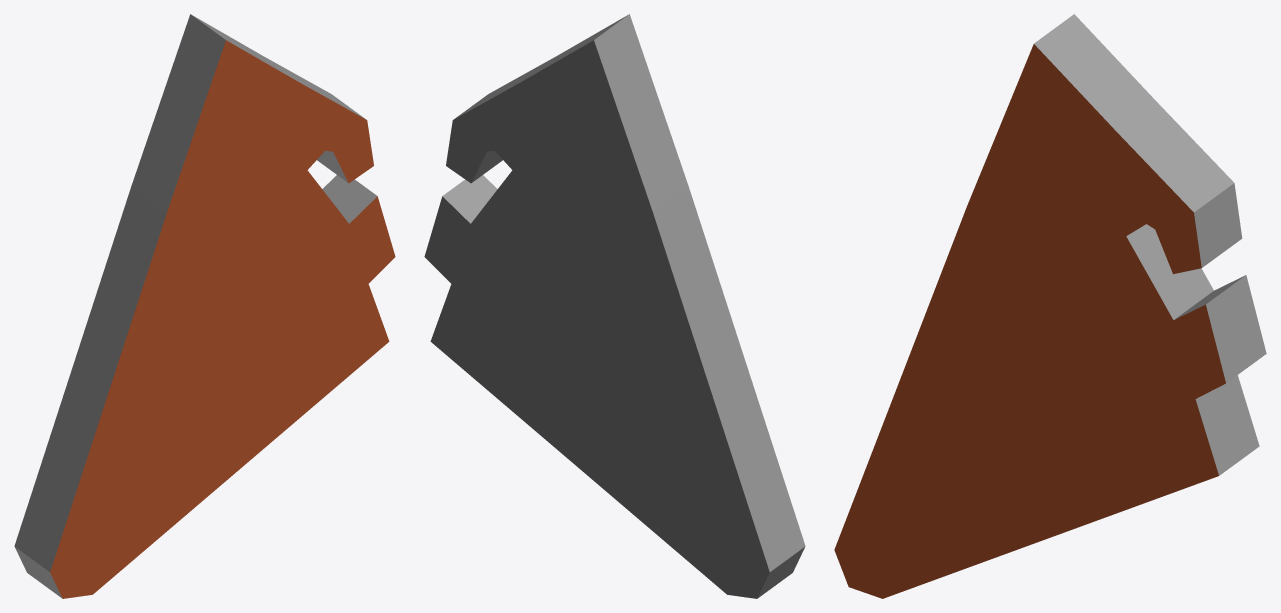
Rendered from construction_5667_assumed_A_Casa_h6m.obj.
The picture shows the model from 3 angles, left to right: view 1: azimuth 30°, elevation 25°; view 2: azimuth 150°, elevation 25°; view 3: azimuth 330°, elevation 25°; orthographic projection. The views are drawn at different scales.
Parts seen in each view (by area): view 1: construction_5667_assumed_A_Casa; view 2: construction_5667_assumed_A_Casa; view 3: construction_5667_assumed_A_Casa.
Boxes of the visible parts, <box> form: construction_5667_assumed_A_Casa: <box>14,14,395,598</box>; construction_5667_assumed_A_Casa: <box>424,14,805,598</box>; construction_5667_assumed_A_Casa: <box>834,14,1266,598</box>.
Bounding box in the file's own units: 33.49 × 48.38 × 6.
